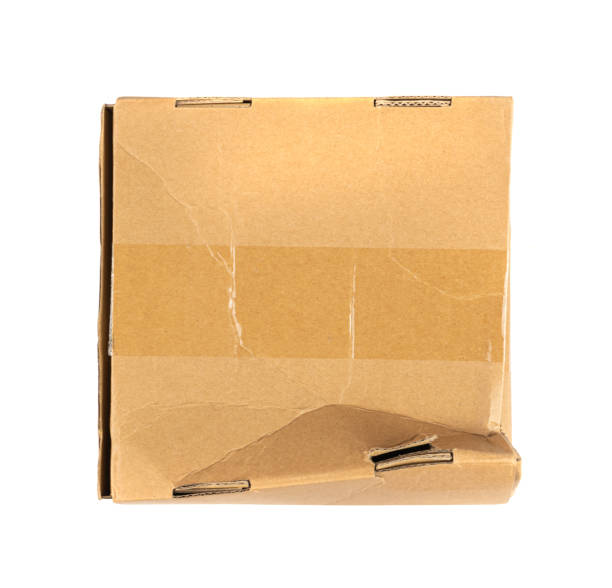damaged package: (173, 405, 514, 504)
